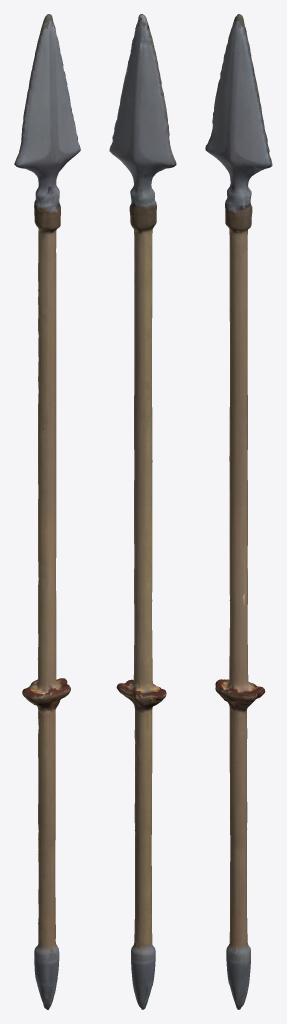
Rendered from Simple_one_handed_spear_designed_as_a_20260723.glb.
The picture shows the model from 3 angles, left to right: view 1: azimuth 30°, elevation 25°; view 2: azimuth 150°, elevation 25°; view 3: azimuth 330°, elevation 25°; orthographic projection.
Size of the model in its own units: 0.14 by 2 by 0.0687.
1 material, 1 textured.
